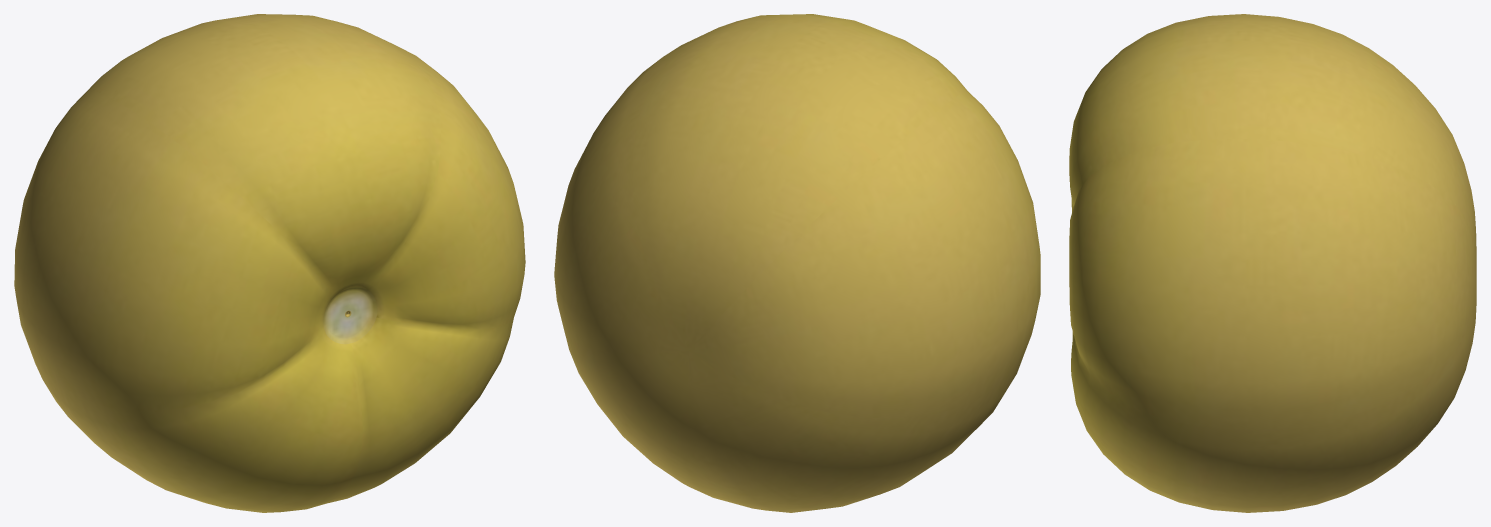
Rendered from YellowTomatoPeel.obj.
The picture shows the model from 3 angles, left to right: view 1: azimuth 30°, elevation 25°; view 2: azimuth 150°, elevation 25°; view 3: azimuth 270°, elevation 25°; orthographic projection. The views are drawn at different scales.
Visible parts, largest first — view 1: YellowTomatoPeel; view 2: YellowTomatoPeel; view 3: YellowTomatoPeel.
Boxes of the visible parts, x1,y1,x2,y2 form: YellowTomatoPeel: (14, 14, 525, 512); YellowTomatoPeel: (554, 14, 1040, 512); YellowTomatoPeel: (1069, 14, 1476, 512).
Bounding box in the file's own units: 0.0631 × 0.0628 × 0.0516.
Materials: 1 (1 with a texture image).
